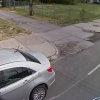Car: (2, 39, 62, 100)
